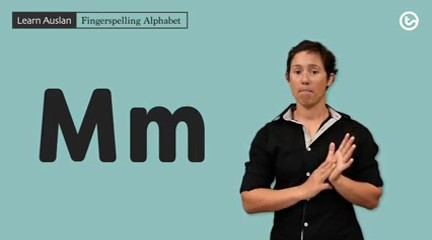M: (299, 129, 360, 200)
